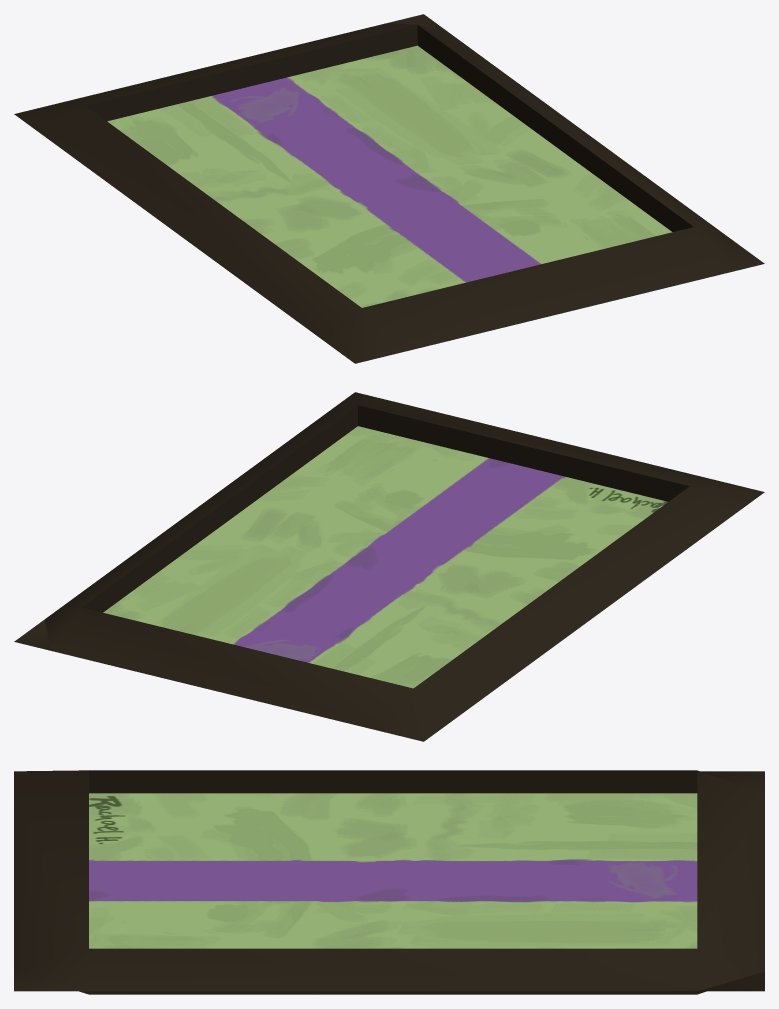
File: Painting14.fbx
3 renders of one model, top to bottom at view 1: azimuth 30°, elevation 25°; view 2: azimuth 150°, elevation 25°; view 3: azimuth 270°, elevation 25°, orthographic. The views are drawn at different scales.
Parts seen in each view (by area): view 1: pPlane1, pCube1; view 2: pPlane1, pCube1; view 3: pPlane1, pCube1.
Boxes of the visible parts, x1,y1,x2,y2 form: pPlane1: (107, 45, 672, 307); pCube1: (14, 14, 764, 363); pPlane1: (103, 426, 667, 688); pCube1: (14, 392, 764, 741); pPlane1: (89, 793, 697, 948); pCube1: (14, 770, 764, 994).
Bounding box in the file's own units: 4.43 × 0.4312 × 6.39.
2 materials, 1 textured.
